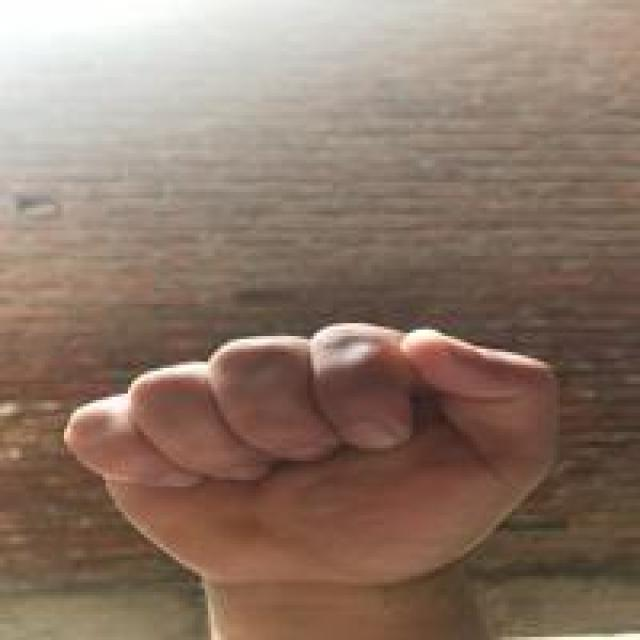A: (61, 314, 566, 624)
